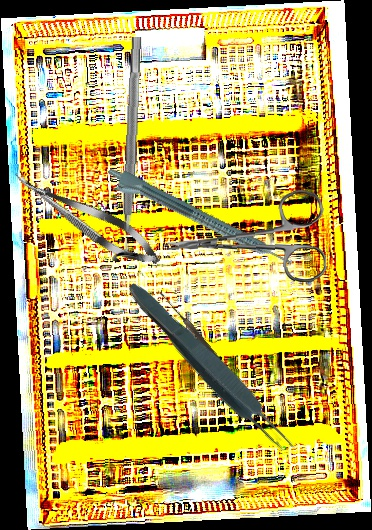Fixation Ring: (110, 36, 155, 263)
Handpiece: (101, 163, 295, 278)
Iris Scissors: (164, 188, 328, 290)
Micro Scissor: (6, 161, 168, 276)
Tissue Forceps: (119, 275, 303, 463), (147, 288, 268, 424)
